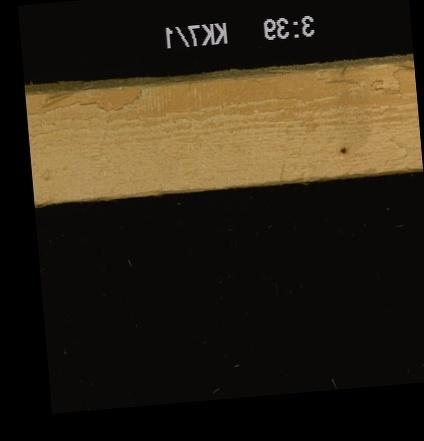small_knot: (336, 143, 350, 157)
